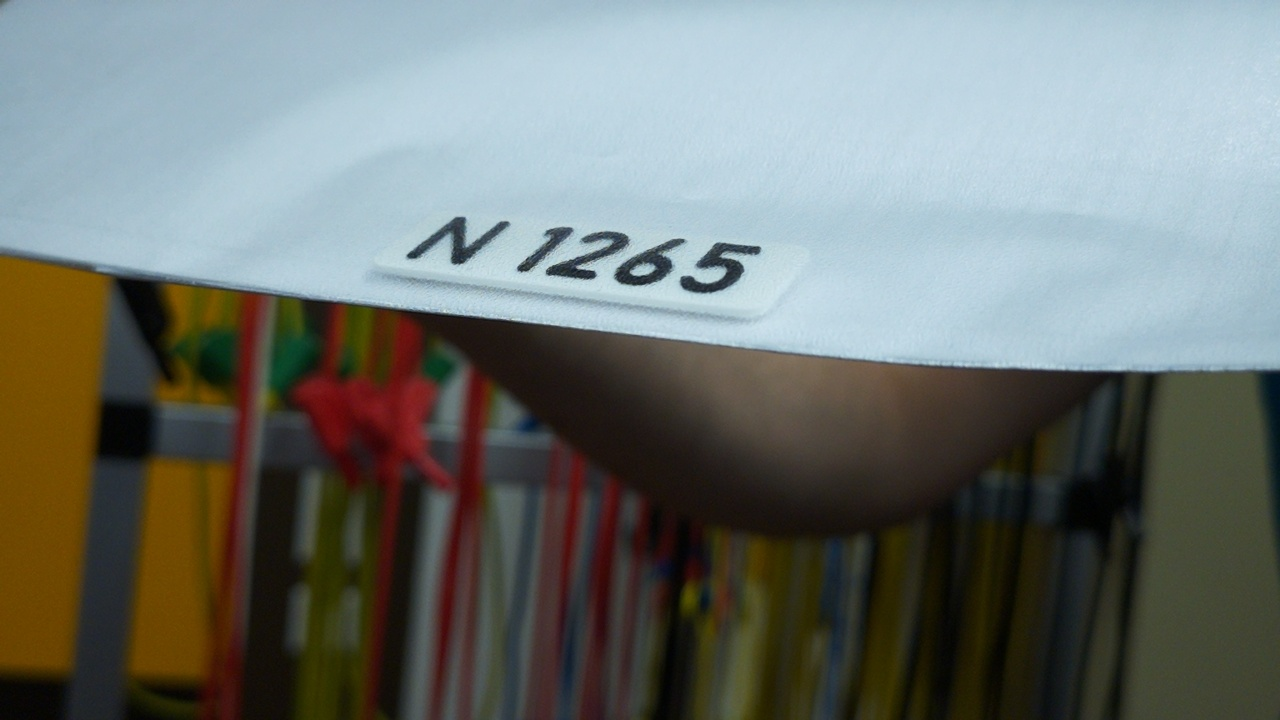license_plate: (372, 194, 812, 323)
